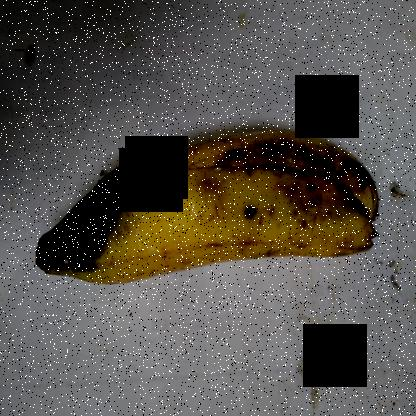rotten: (183, 119, 397, 259), (35, 138, 151, 294)
